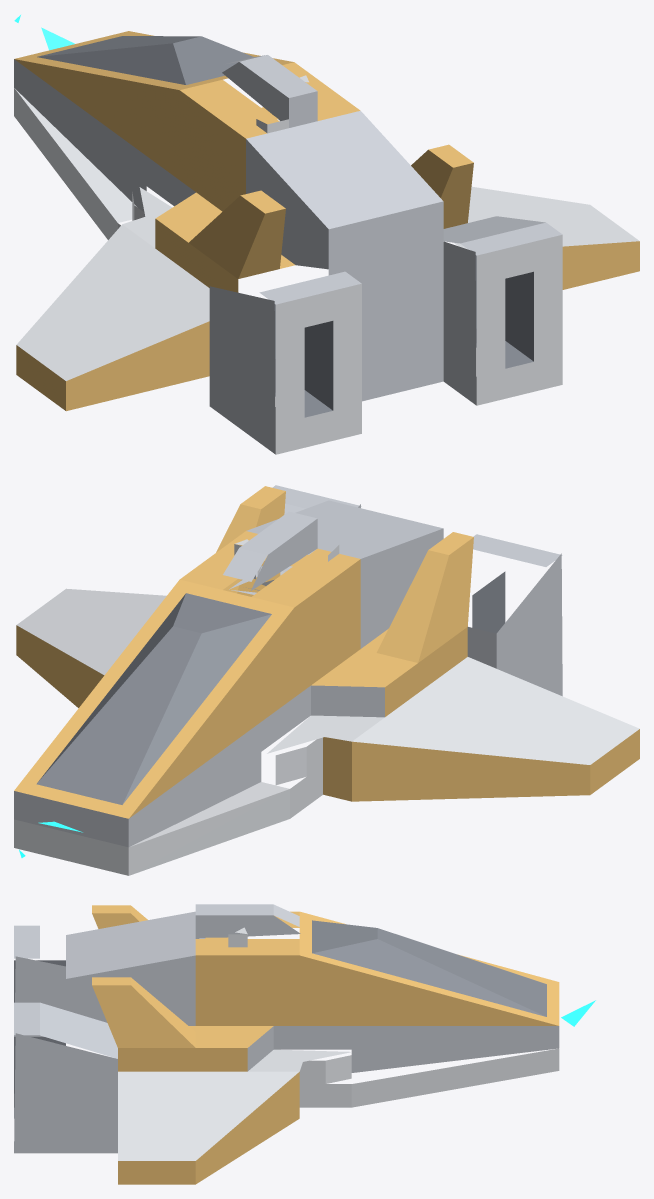
The model's file is drone_repair_lod1.glb.
The picture shows the model from 3 angles, top to bottom: view 1: azimuth 30°, elevation 25°; view 2: azimuth 150°, elevation 25°; view 3: azimuth 270°, elevation 25°; orthographic projection. The views are drawn at different scales.
Parts seen in each view (by area): view 1: drone_repair.001; view 2: drone_repair.001; view 3: drone_repair.001.
Boxes of the visible parts, x1,y1,x2,y2 form: drone_repair.001: (14, 15, 639, 454); drone_repair.001: (14, 485, 639, 875); drone_repair.001: (14, 904, 595, 1184).
Bounding box in the file's own units: 2 × 0.8 × 2.41.
